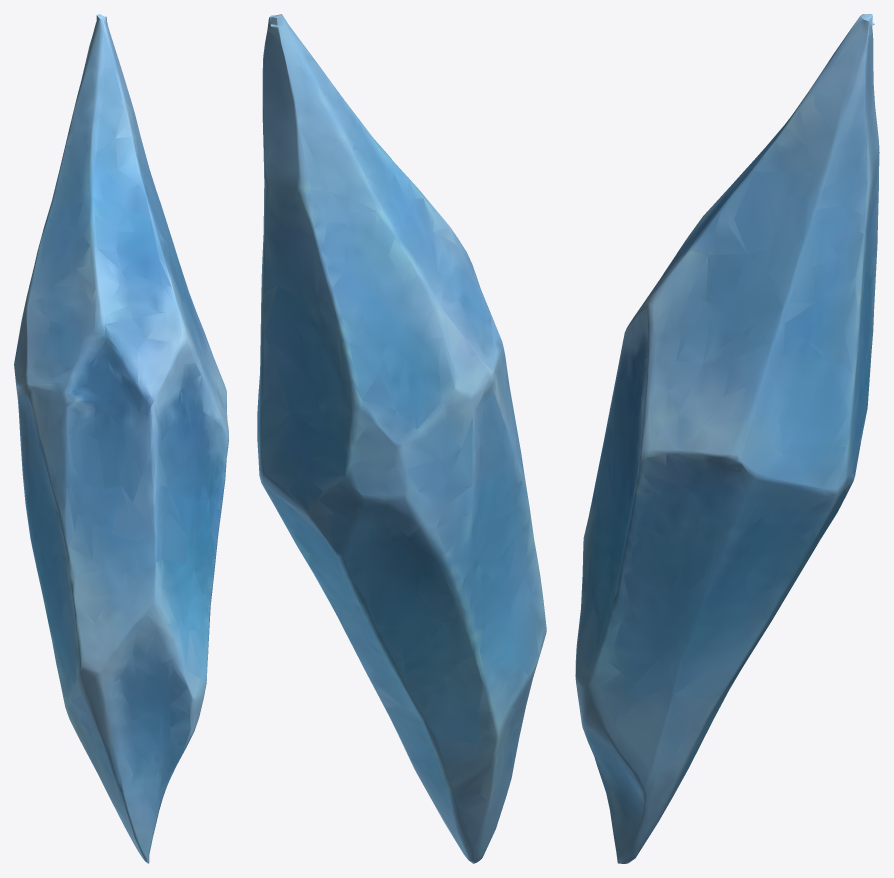
The model's file is esquirla_hielo_2500.glb.
3 renders of one model, left to right at view 1: azimuth 30°, elevation 25°; view 2: azimuth 150°, elevation 25°; view 3: azimuth 270°, elevation 25°, orthographic. The views are drawn at different scales.
Parts seen in each view (by area): view 1: esquirla_hielo_malla; view 2: esquirla_hielo_malla; view 3: esquirla_hielo_malla.
Boxes of the visible parts, box(x1,y1,x2,y2) form: esquirla_hielo_malla: box(14, 14, 228, 863); esquirla_hielo_malla: box(257, 14, 546, 863); esquirla_hielo_malla: box(575, 14, 879, 863).
Size of the model in its own units: 0.083 by 0.3115 by 0.0973.
1 material, 1 textured.
